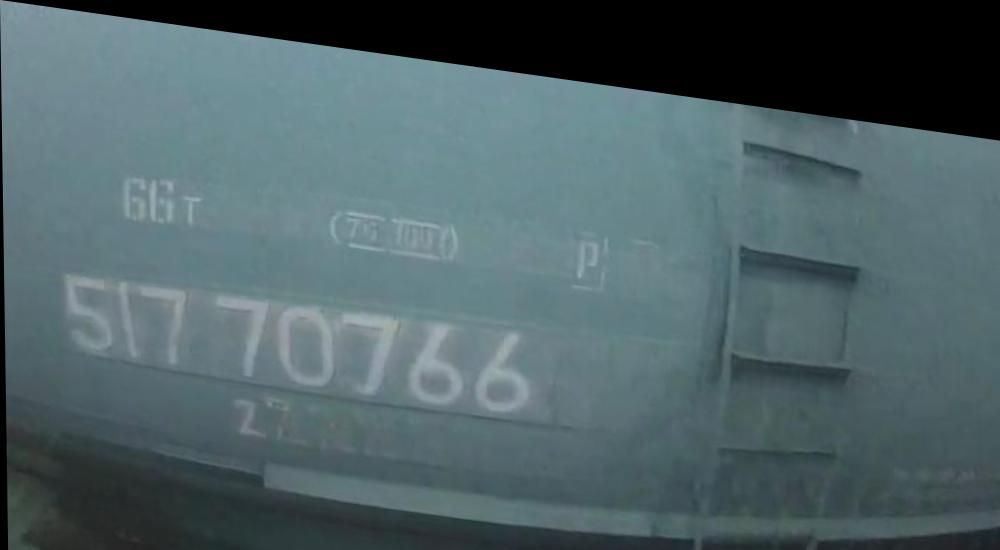Wagon-number: (56, 261, 545, 411)
